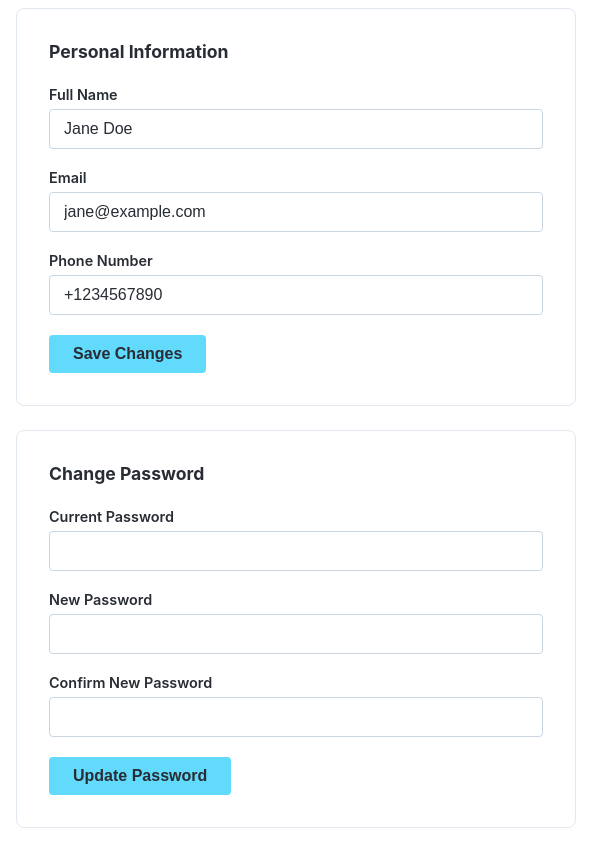
Test: ProfilePage › password change form › shows error when new password has no uppercase letter
(page scrolled)
Check: the field labelled "Full Name" is shown, box [49,109,543,149]
Type "nouppercase1" into the password field labelled "New Password" at (296,634), box [49,614,543,654]
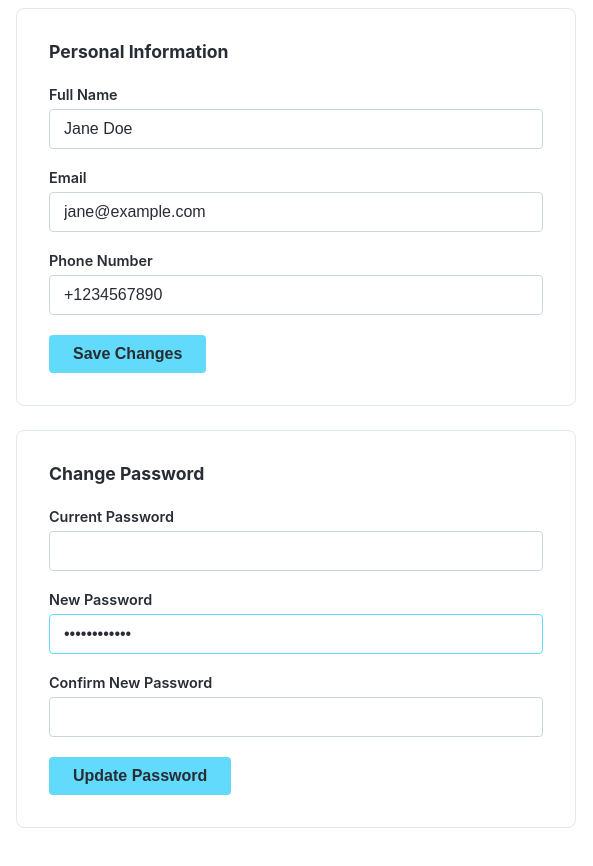
Press Tab
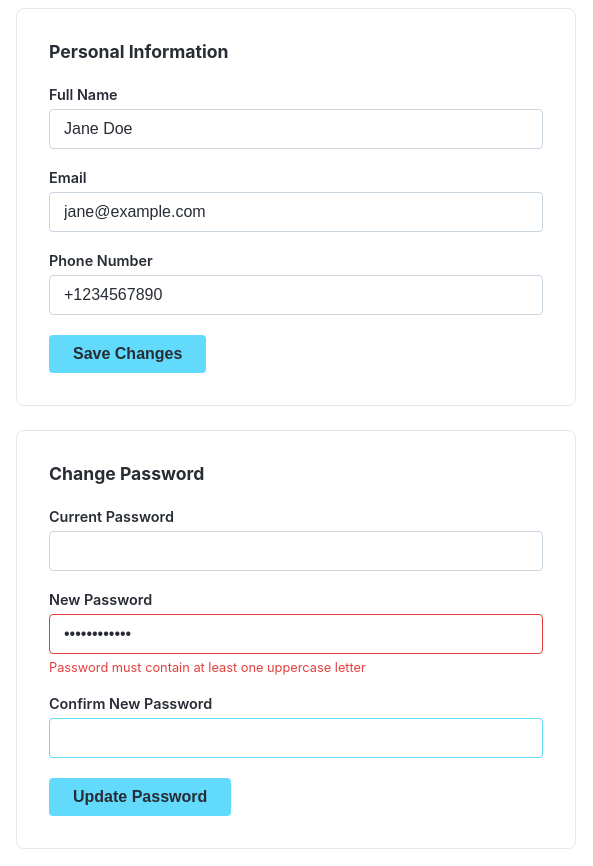
Check: the text "Password must contain at least one uppercase letter" is shown, box [49,660,366,675]
